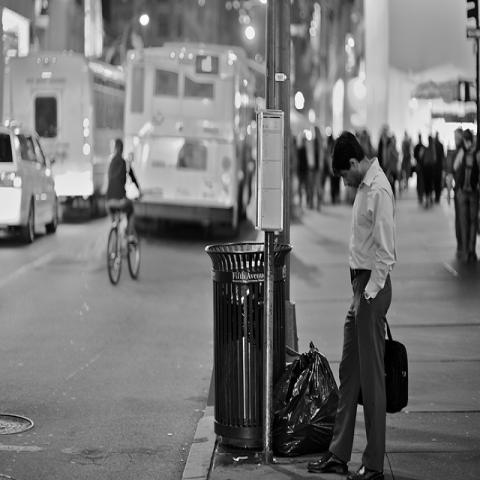bus: (123, 47, 256, 237), (4, 51, 124, 219)
car: (2, 120, 62, 246)
